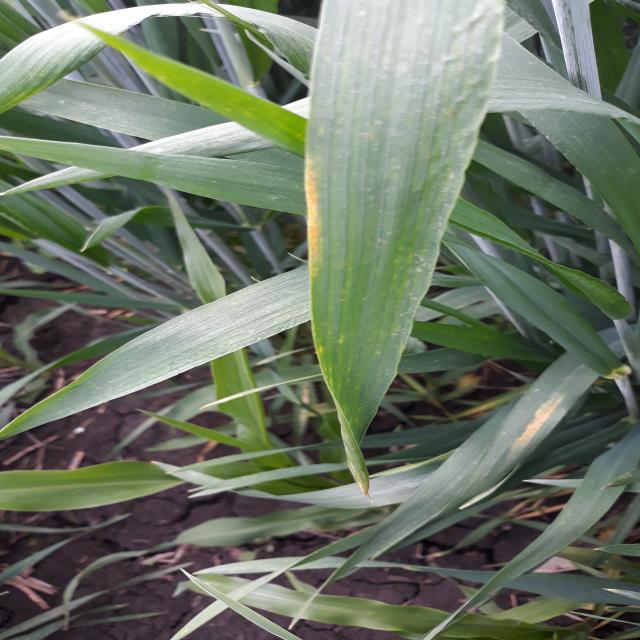yellow_rust: (295, 14, 510, 468), (427, 363, 590, 456), (486, 468, 584, 527)
